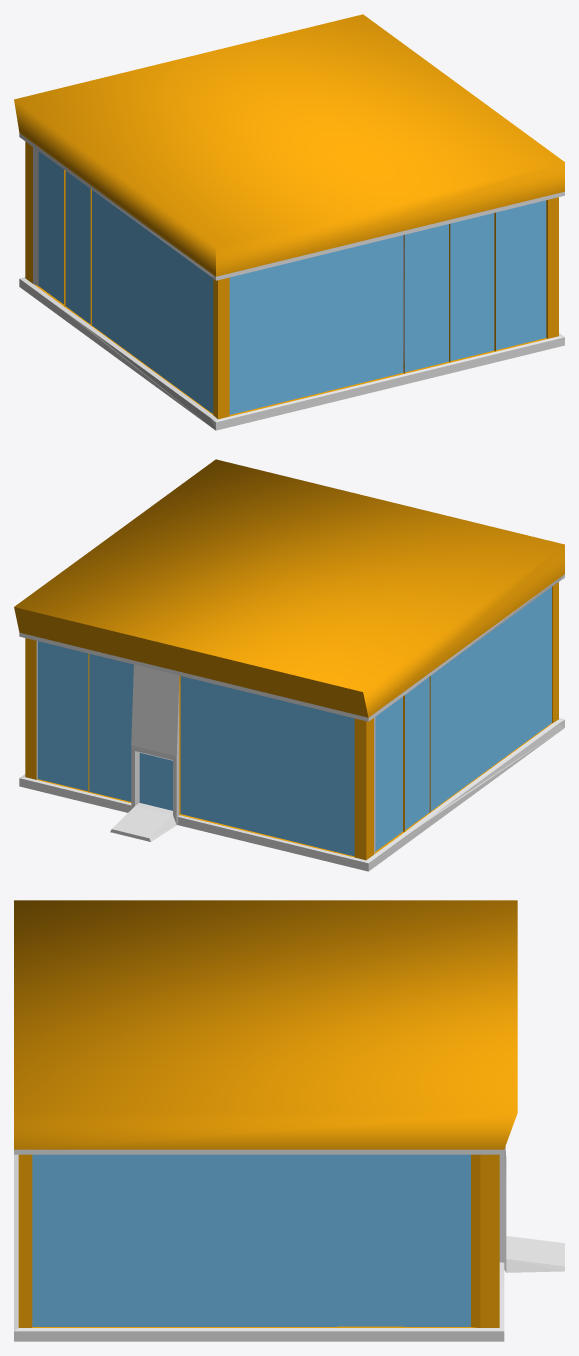
File: Shop8x8x4Orange.fbx
3 views of the same model, one above another, from view 1: azimuth 30°, elevation 25°; view 2: azimuth 150°, elevation 25°; view 3: azimuth 270°, elevation 25° (orthographic). The views are drawn at different scales.
Visible parts, largest first — view 1: Shop.001; view 2: Shop.001; view 3: Shop.001.
Part boxes in pixels (<box>): Shop.001: <box>14,14,564,430</box>; Shop.001: <box>14,459,564,871</box>; Shop.001: <box>14,900,564,1341</box>.
Size of the model in its own units: 7.96 by 4 by 8.72.
Materials: 1 (1 with a texture image).
